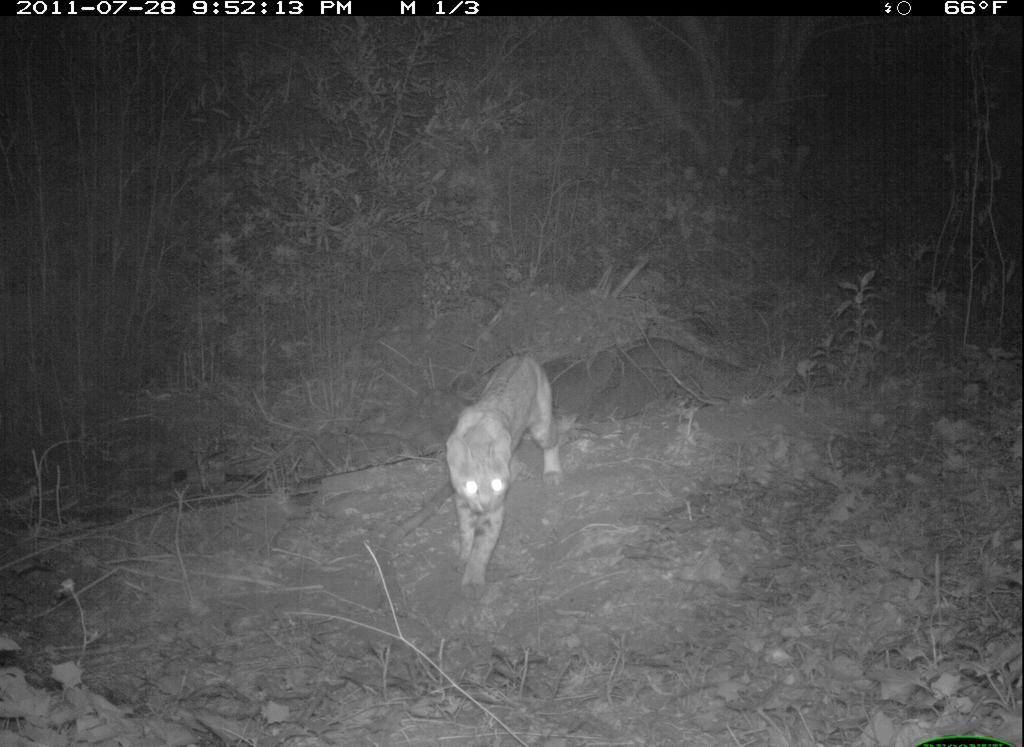bobcat: (437, 353, 570, 598)
